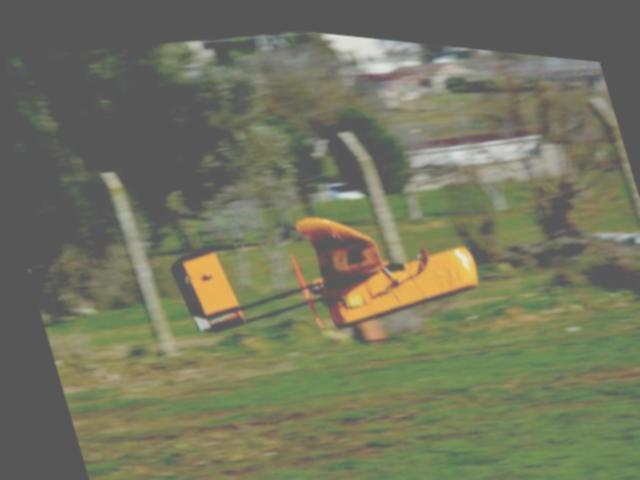iha: (127, 160, 507, 391)
